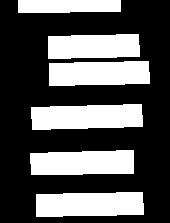parkingspot: (31, 104, 142, 129), (36, 192, 143, 216), (30, 150, 133, 174), (49, 61, 149, 85), (48, 34, 139, 58), (18, 0, 120, 12)
